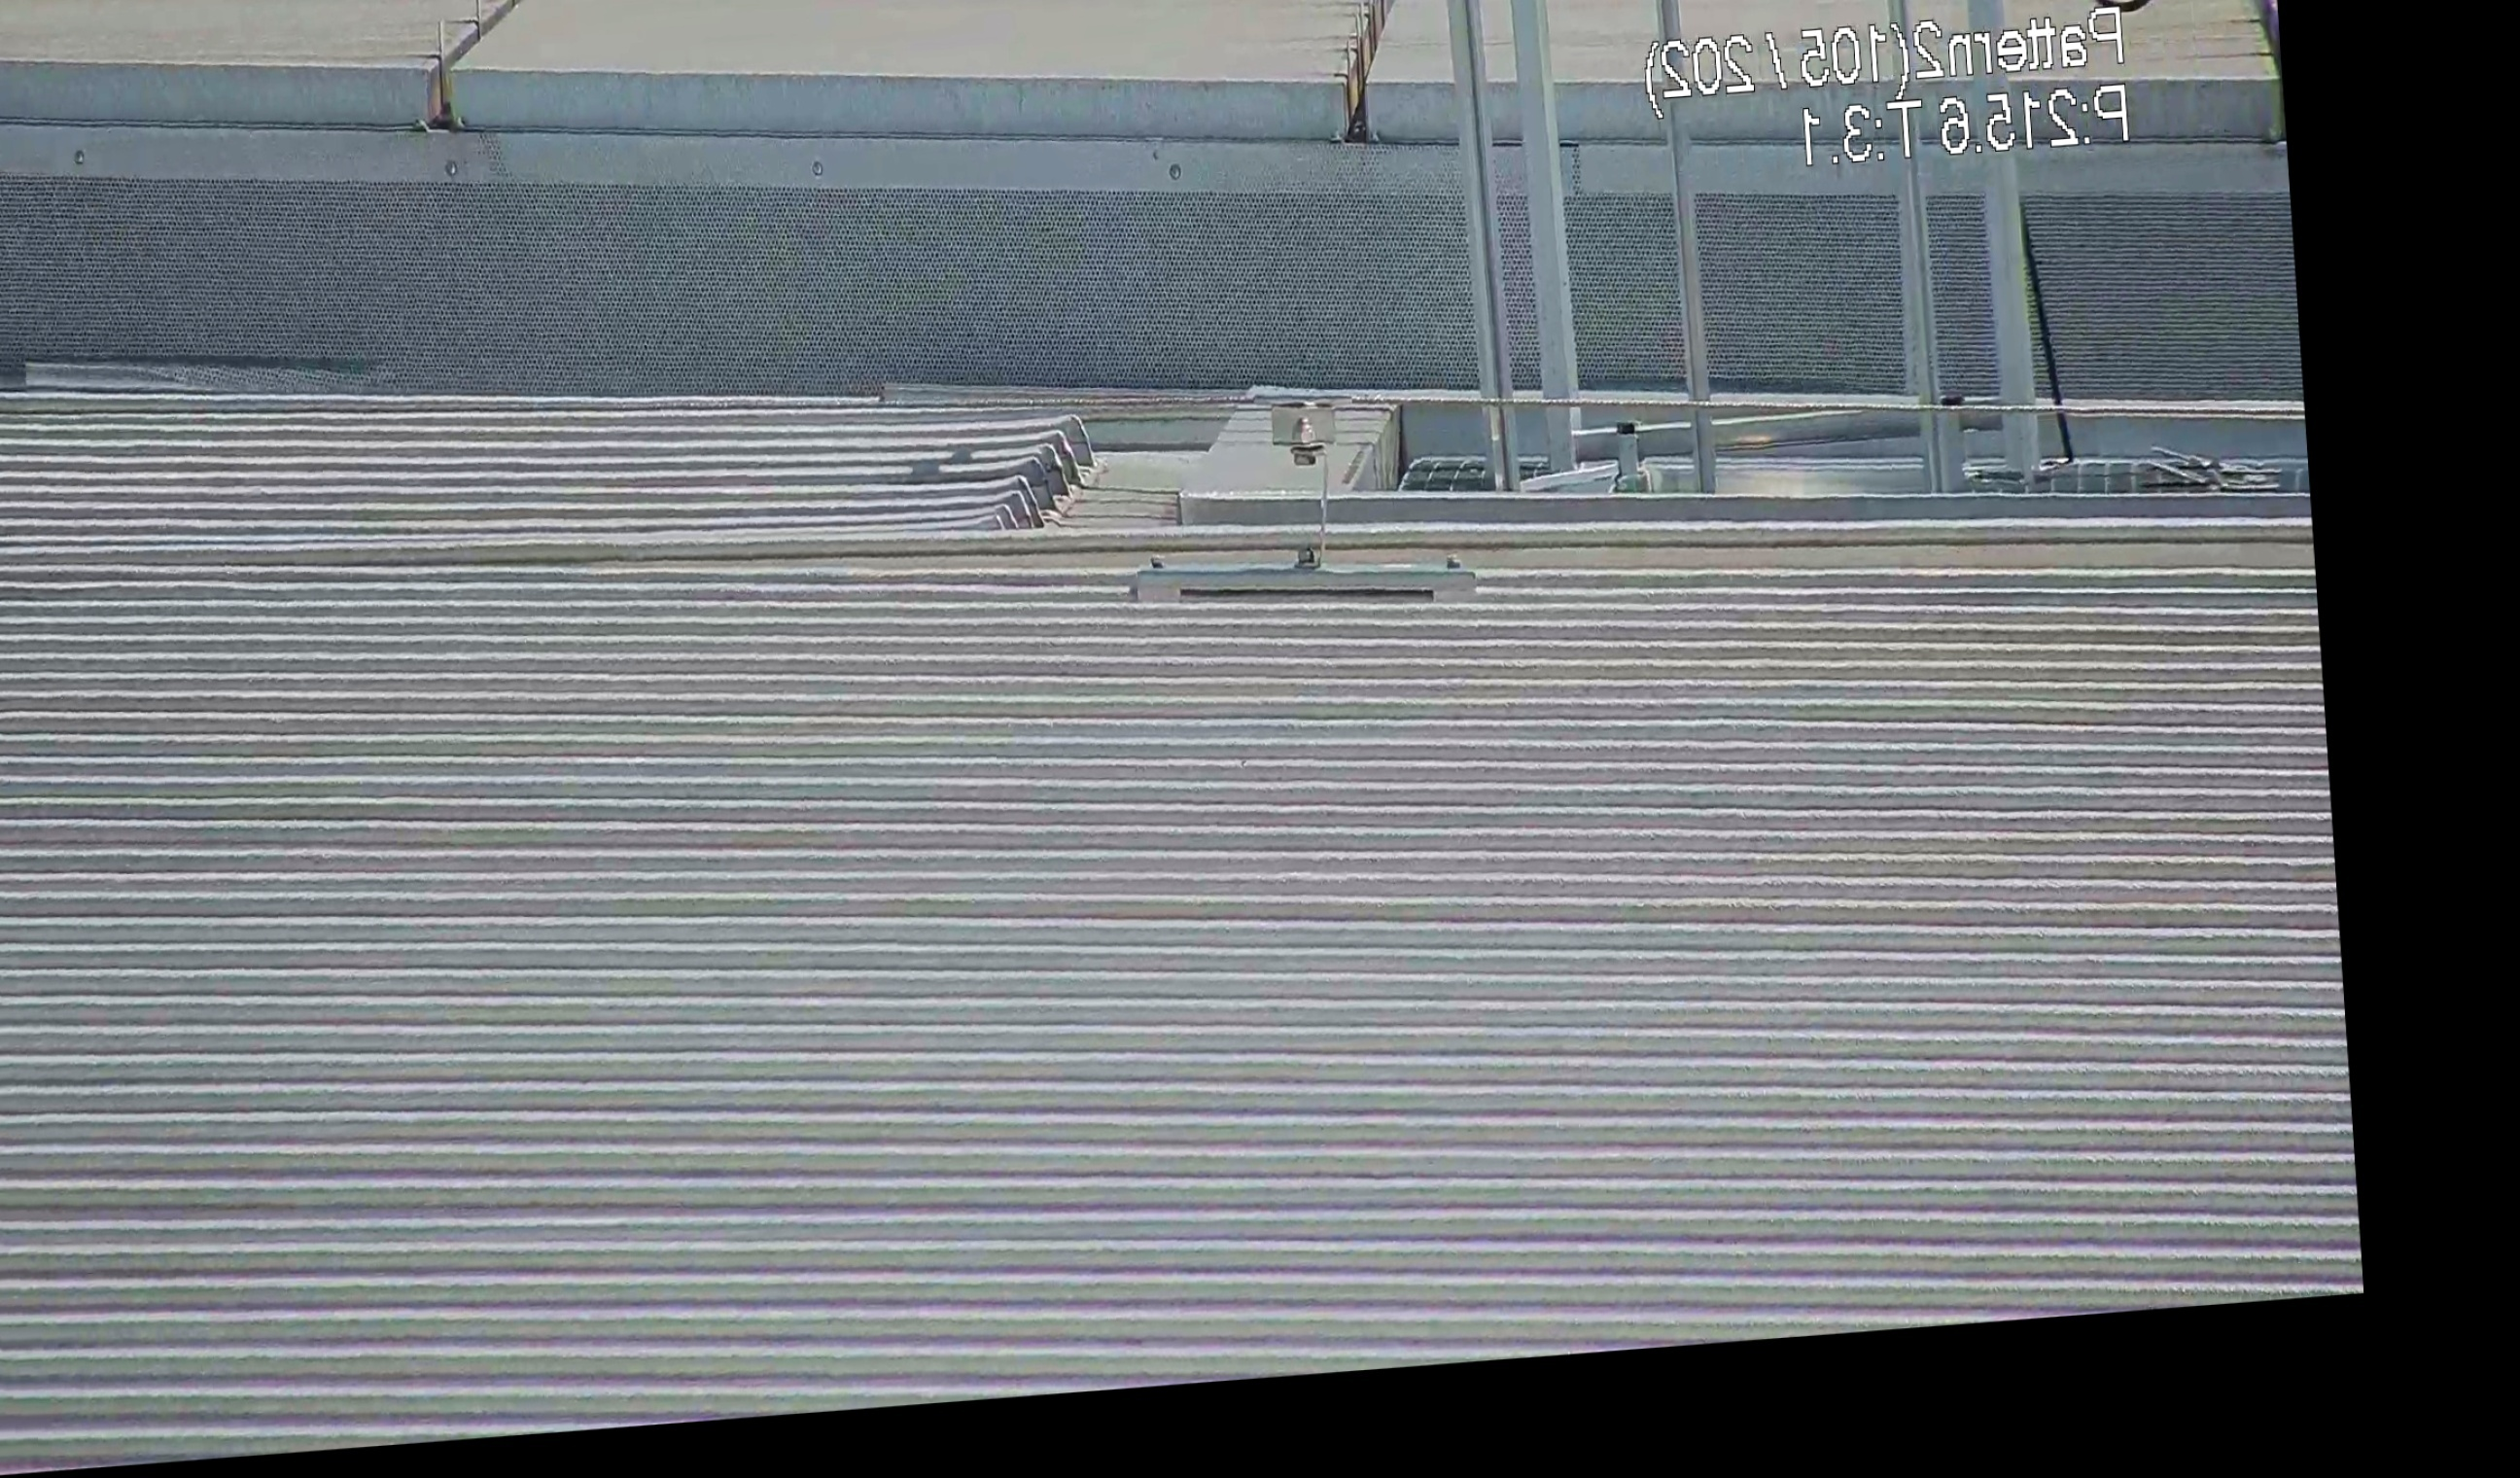Other: (972, 385, 1099, 556)
